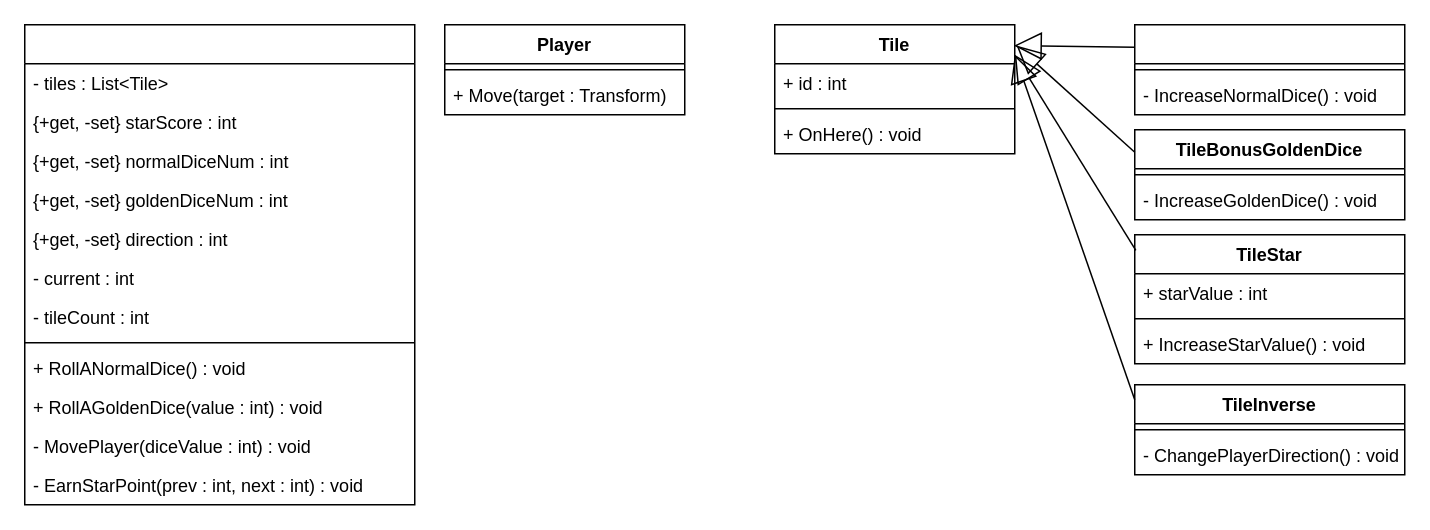
This 1430x530 diagram has some shape labels left out. The shapes that lost their labels are listed below. From the top down, each one's box as (x1, y1, x2, y2) in pixels, then its label:
(1133, 23, 1405, 115): TileBonusNormalDice
(23, 23, 415, 505): GameManager
